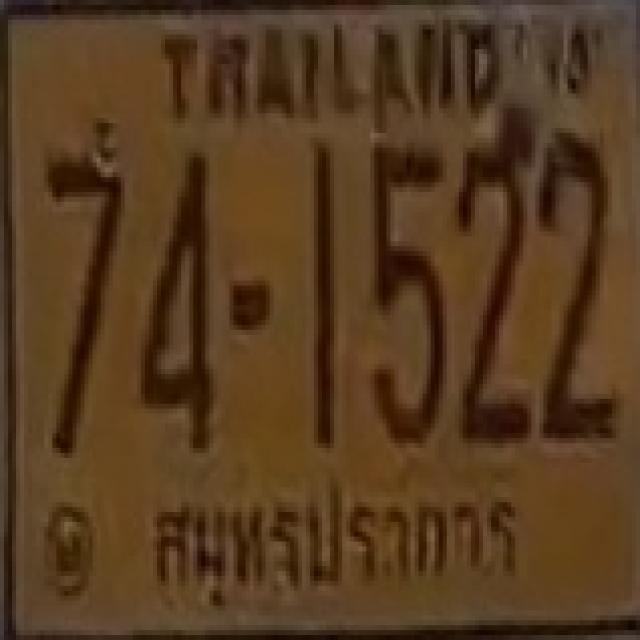0: (368, 140, 450, 438)
1: (310, 140, 342, 449)
2: (450, 137, 535, 441), (538, 122, 616, 433)
4: (135, 150, 211, 446)
7: (26, 118, 134, 458)
SPK: (136, 478, 538, 604)
